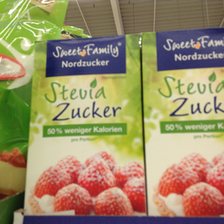sugar: (24, 35, 146, 216), (141, 26, 224, 217)
